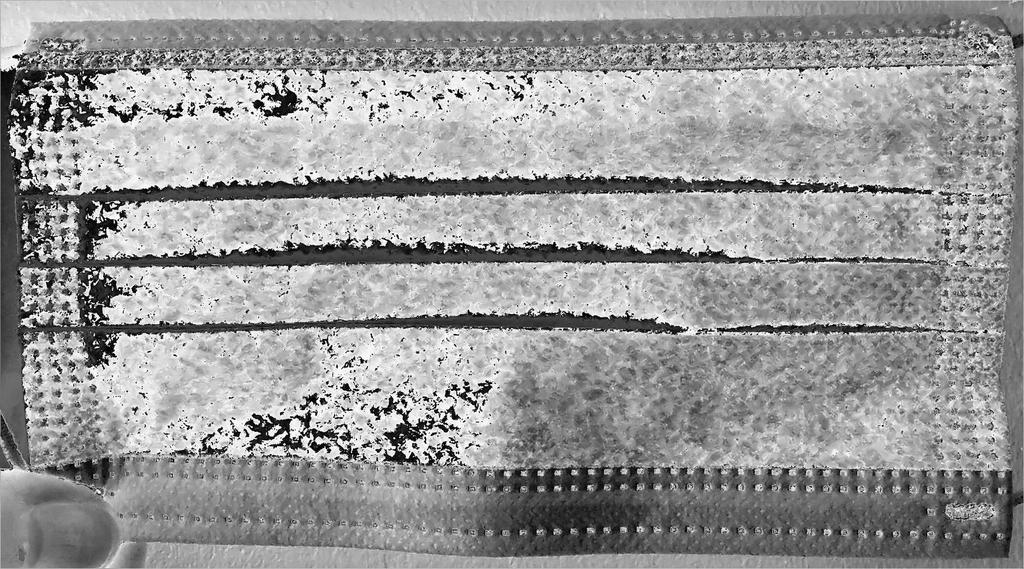High GSM: (26, 68, 516, 457)
